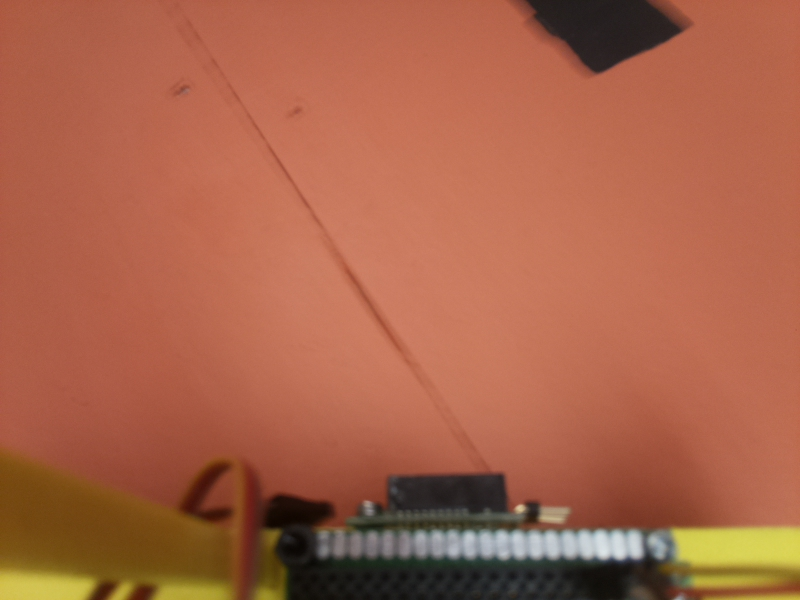start: (494, 2, 690, 74)
